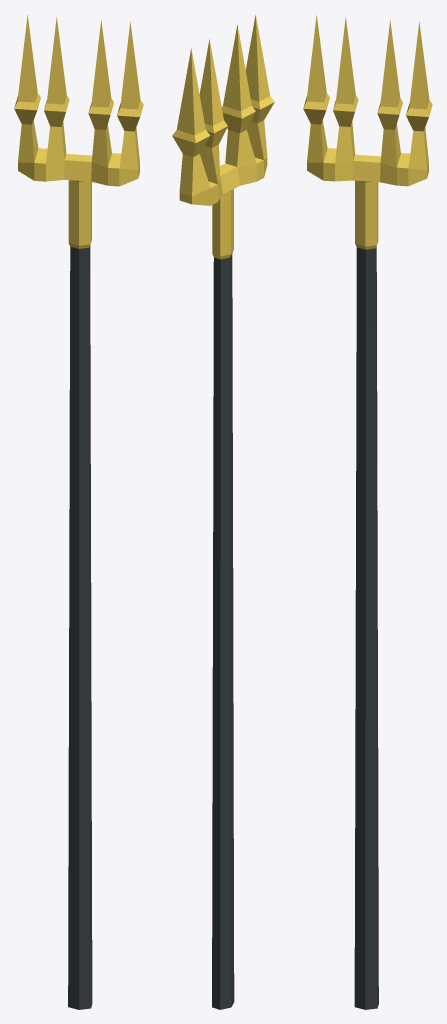
File: Spear1.fbx
3 views of the same model, side by side, from view 1: azimuth 90°, elevation 25°; view 2: azimuth 150°, elevation 25°; view 3: azimuth 270°, elevation 25° (orthographic).
Visible parts, largest first — view 1: Cylinder.012; view 2: Cylinder.012; view 3: Cylinder.012.
Part boxes in pixels (left/top/right/bottom): Cylinder.012: left=14, top=15, right=143, bottom=1009; Cylinder.012: left=172, top=15, right=274, bottom=1009; Cylinder.012: left=303, top=15, right=432, bottom=1009.
Size of the model in its own units: 0.0928 by 0.2415 by 2.03.
